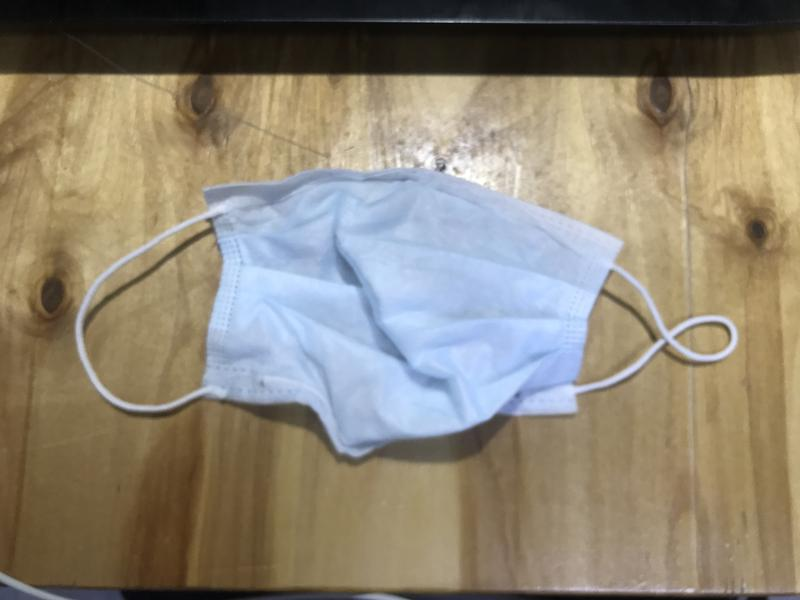medical_mask: (73, 176, 739, 456)
